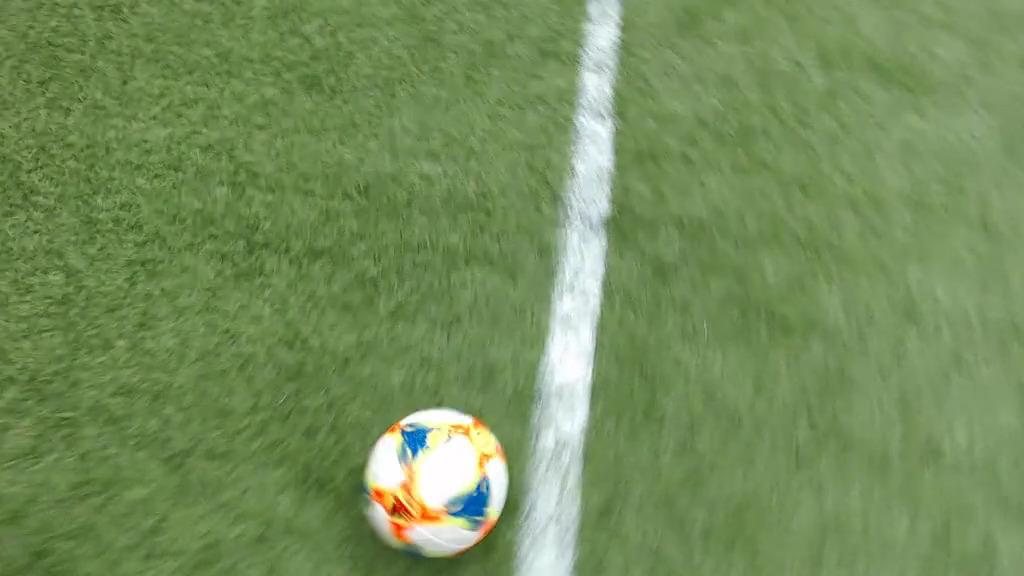ball: (364, 407, 507, 557)
